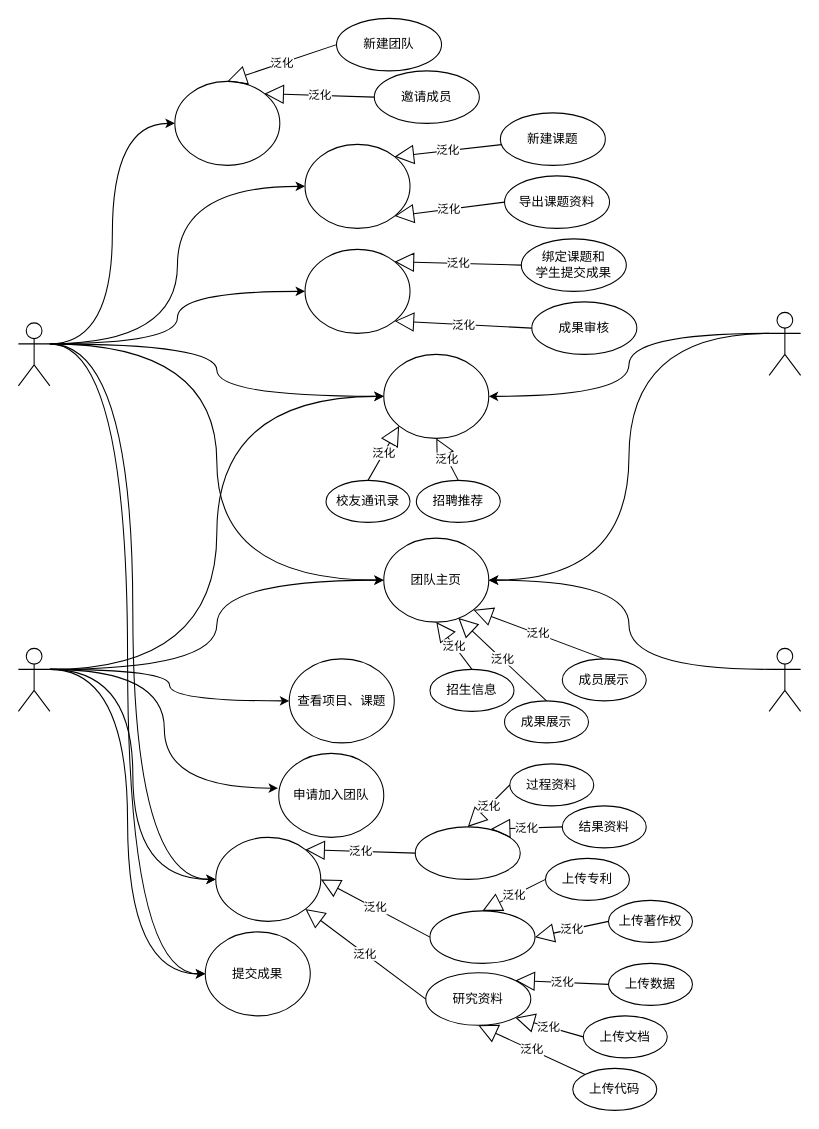
The diagram is 819 pixels wide and 1129 high, and some of its shapes have lost their labels. Each missing label, with the centre of its shape:
"发布成果" goes at [268,878].
"团队管理" goes at [227,122].
"学生" goes at [33,679].
"师门互助" goes at [436,395].
"成果管理" goes at [357,290].
"校友" goes at [784,343].
"知识产权成果" goes at [482,936].
"老师" goes at [33,354].
"论文成果" goes at [467,852].
"访客" goes at [784,679].
"项目、课题管理" goes at [357,185].
